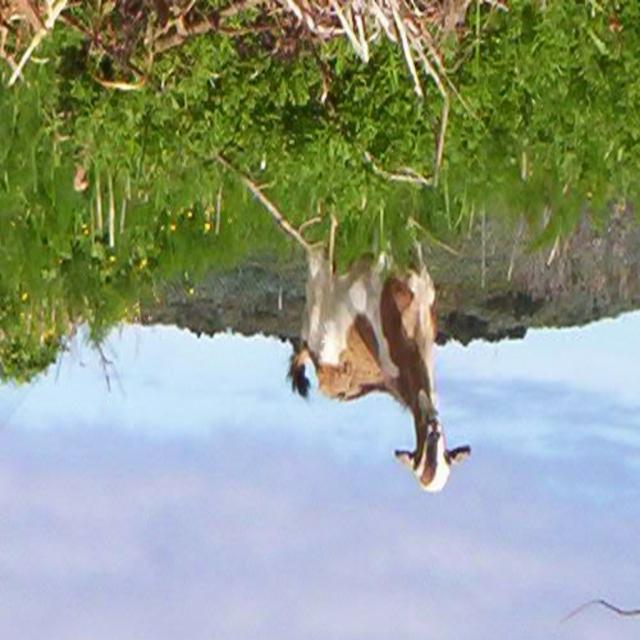Goat: (285, 204, 474, 497)
